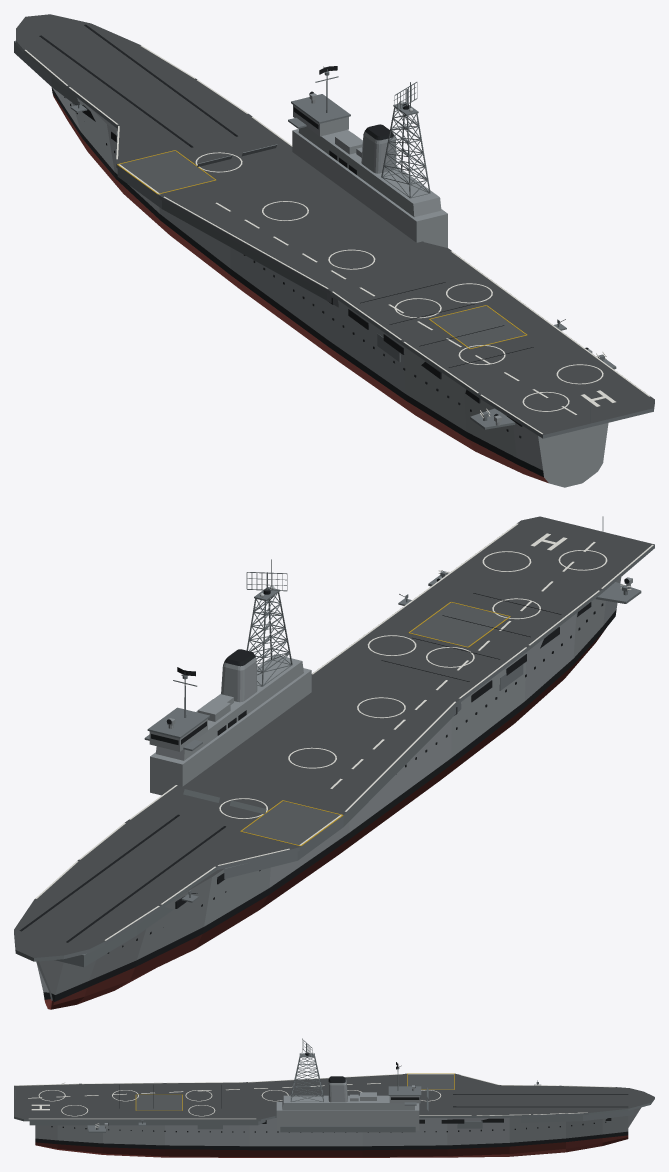
File: hermes.glb
3 views of the same model, one above another, from view 1: azimuth 30°, elevation 25°; view 2: azimuth 150°, elevation 25°; view 3: azimuth 270°, elevation 25° (orthographic). The views are drawn at different scales.
Visible parts, largest first — view 1: Flight deck, Hull, Island base, Deck markings, Island upper, 965 tower, Aft lift, Deck-edge lift, Angled deck sponson, Funnel, Bridge roof, Catapult tracks (+1 smaller); view 2: Flight deck, Hull, Island base, Deck markings, Island upper, Aft lift, 965 tower, Deck-edge lift, Angled deck sponson, Funnel, Bow support, Bridge roof (+2 smaller); view 3: Flight deck, Hull, Island base, Deck markings, Island upper, Starboard sponson, 965 tower, Island sponson, Aft lift, Bow support, Deck-edge lift, Catapult tracks (+6 smaller).
Part boxes in pixels (left/top/right/bottom): Flight deck: left=16, top=14, right=654, bottom=438; Hull: left=51, top=87, right=608, bottom=487; Island base: left=292, top=129, right=447, bottom=247; Deck markings: left=24, top=45, right=650, bottom=434; Island upper: left=298, top=127, right=441, bottom=217; 965 tower: left=381, top=82, right=430, bottom=198; Aft lift: left=431, top=306, right=525, bottom=348; Deck-edge lift: left=120, top=151, right=214, bottom=193; Angled deck sponson: left=116, top=131, right=338, bottom=307; Funnel: left=361, top=131, right=396, bottom=173; Bridge roof: left=291, top=94, right=350, bottom=123; Catapult tracks: left=39, top=24, right=237, bottom=147; Flight deck: left=14, top=516, right=654, bottom=961; Hull: left=36, top=577, right=621, bottom=1009; Island base: left=150, top=668, right=311, bottom=795; Deck markings: left=35, top=523, right=653, bottom=940; Island upper: left=156, top=654, right=303, bottom=760; Aft lift: left=410, top=602, right=508, bottom=646; 965 tower: left=246, top=559, right=292, bottom=686; Deck-edge lift: left=242, top=801, right=339, bottom=844; Angled deck sponson: left=223, top=702, right=461, bottom=878; Funnel: left=221, top=657, right=257, bottom=702; Bow support: left=54, top=907, right=173, bottom=967; Bridge roof: left=147, top=707, right=209, bottom=738; Flight deck: left=14, top=1073, right=654, bottom=1121; Hull: left=35, top=1107, right=641, bottom=1157; Island base: left=276, top=1102, right=419, bottom=1130; Deck markings: left=15, top=1073, right=615, bottom=1119; Island upper: left=282, top=1095, right=414, bottom=1110; Starboard sponson: left=29, top=1120, right=265, bottom=1125; 965 tower: left=290, top=1038, right=323, bottom=1101; Island sponson: left=280, top=1126, right=415, bottom=1132; Aft lift: left=136, top=1095, right=182, bottom=1110; Bow support: left=521, top=1109, right=633, bottom=1122; Deck-edge lift: left=408, top=1074, right=453, bottom=1089; Catapult tracks: left=453, top=1094, right=628, bottom=1107.
Size of the model in its own units: 43.23 by 52.5 by 227.
